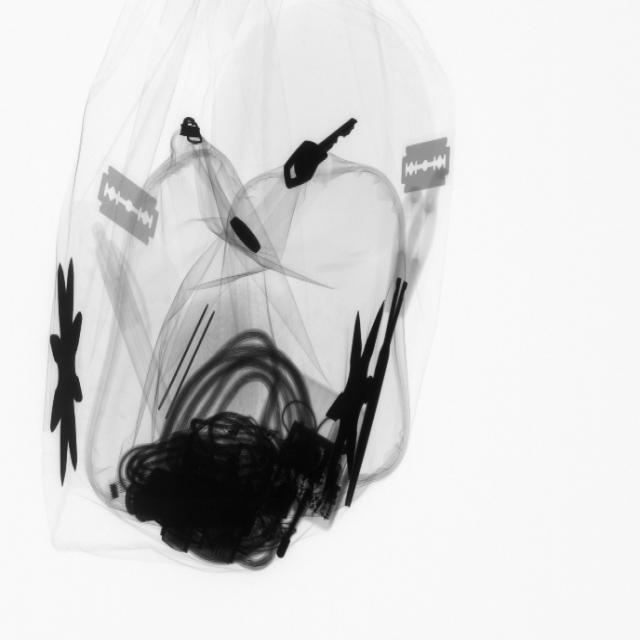BLADE: (99, 159, 168, 250), (397, 130, 460, 201)
SHURIKEN: (318, 294, 396, 516), (35, 249, 100, 503)
